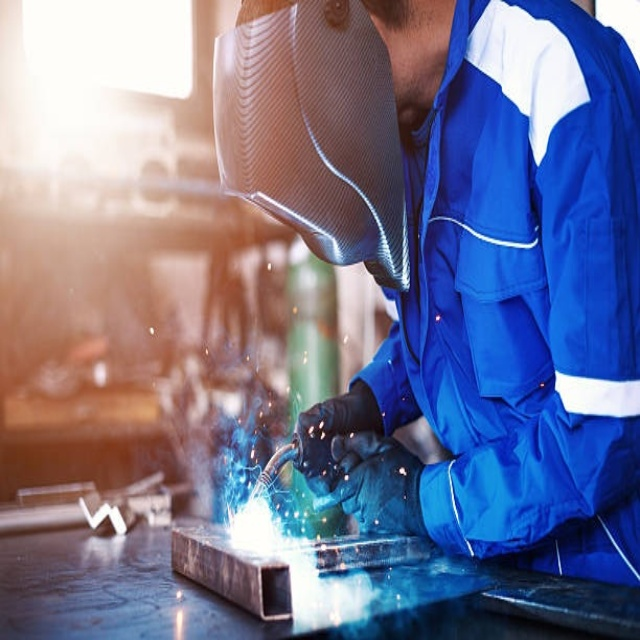Guantes: (326, 425, 432, 547), (290, 381, 384, 485)
